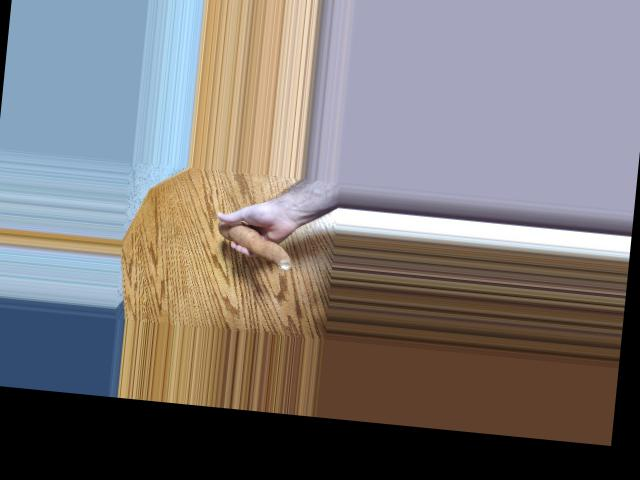sweet_potato: (218, 221, 298, 270)
